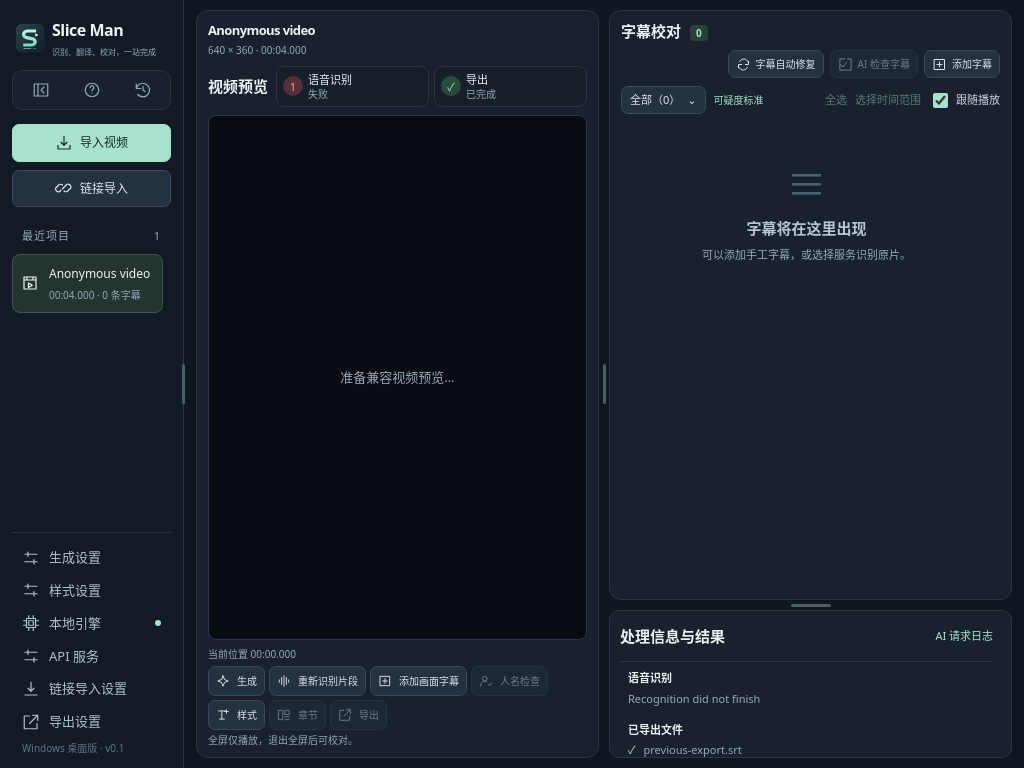
Test: visible operation navigation › keeps generic retry functional for a failed recognition with an empty source-only timeline
Click the button "生成": click(236, 681) [208,666,265,696]
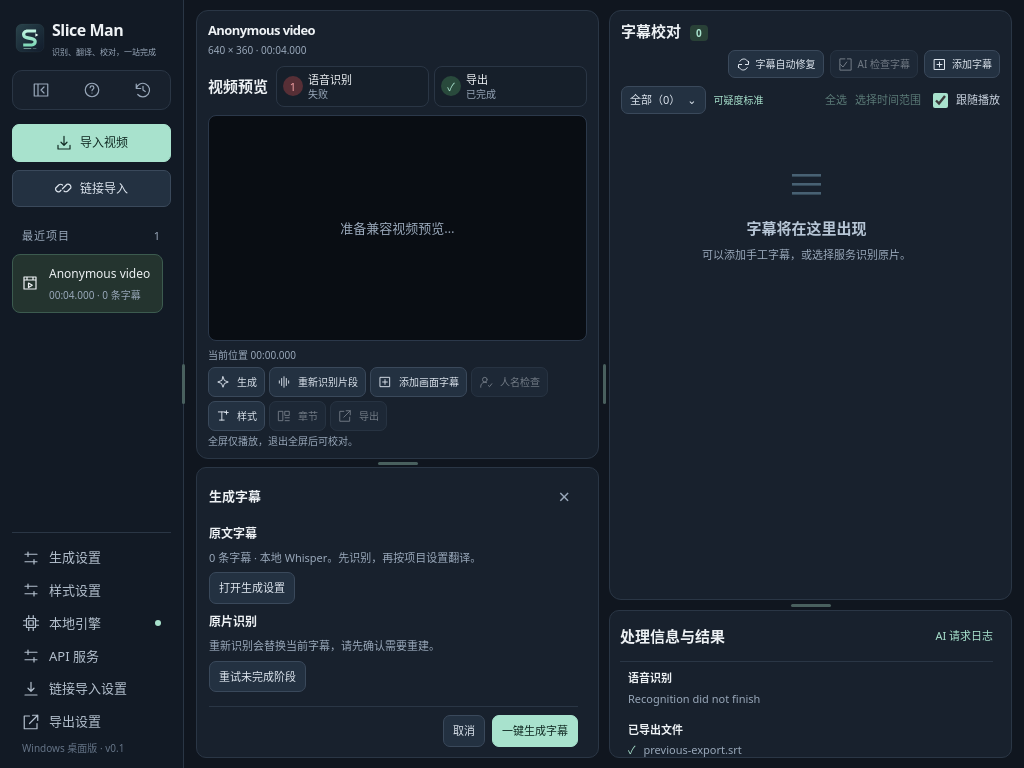
Click the button "重试未完成阶段": click(258, 677) [209,661,306,692]
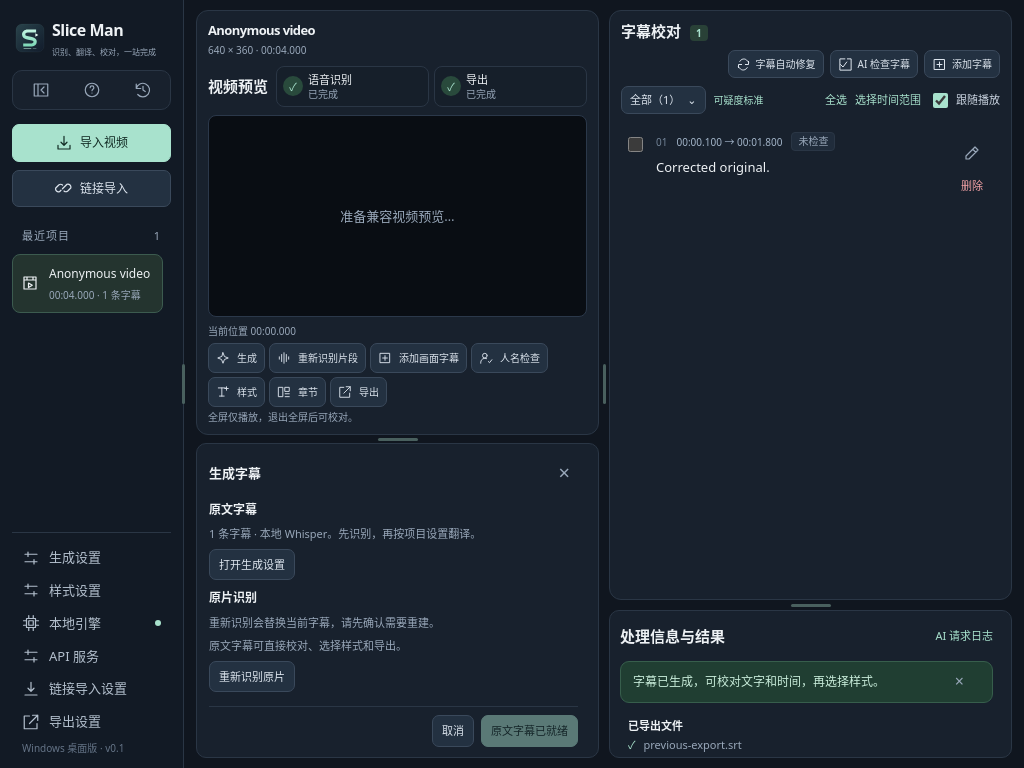
Result: the text "Corrected original." is shown at [656,158,770,176]
